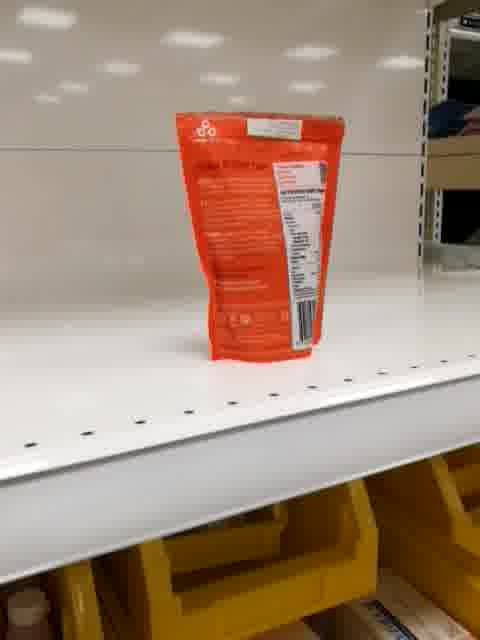whitechia: (172, 104, 347, 365)
